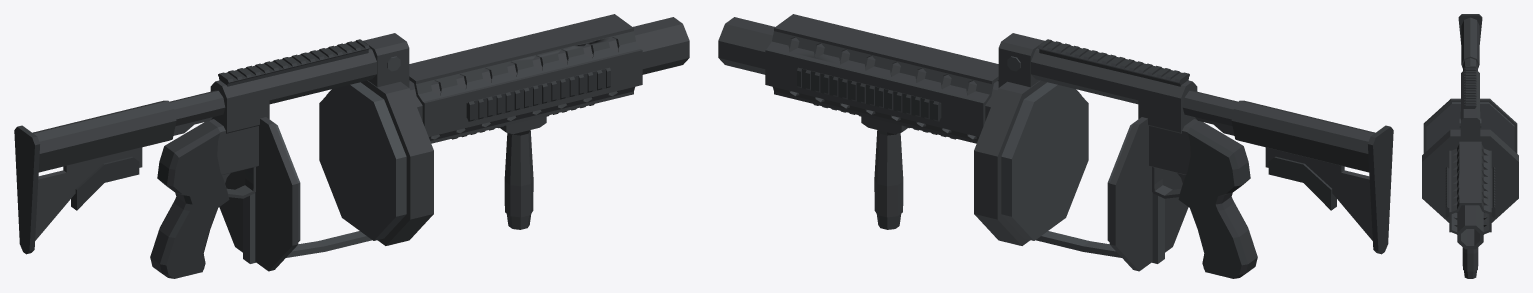
File: HeavyWeapon1_02.fbx
3 views of the same model, side by side, from view 1: azimuth 30°, elevation 25°; view 2: azimuth 150°, elevation 25°; view 3: azimuth 270°, elevation 25° (orthographic). The views are drawn at different scales.
Parts seen in each view (by area): view 1: HeavyWeapon1_02; view 2: HeavyWeapon1_02; view 3: HeavyWeapon1_02.
Part boxes in pixels (bbox=[...]): HeavyWeapon1_02: bbox=[14, 14, 689, 278]; HeavyWeapon1_02: bbox=[718, 14, 1393, 278]; HeavyWeapon1_02: bbox=[1422, 14, 1518, 278].
Bounding box in the file's own units: 0.8535 × 0.2756 × 0.1899.
